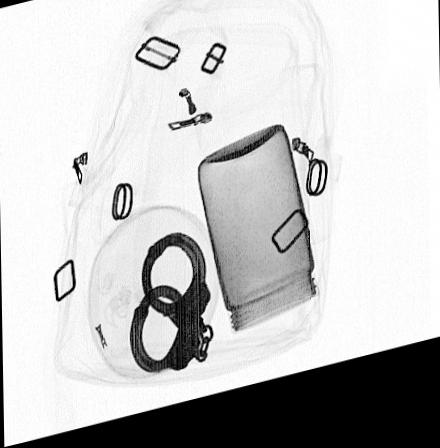HandCuffs: (129, 244, 211, 380)
